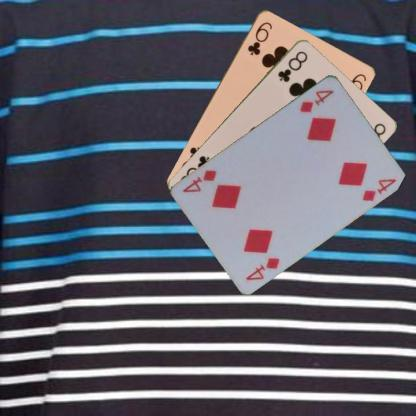4d: (297, 86, 335, 114), (243, 254, 281, 281)
6c: (244, 18, 274, 56)
8c: (275, 48, 309, 83)
